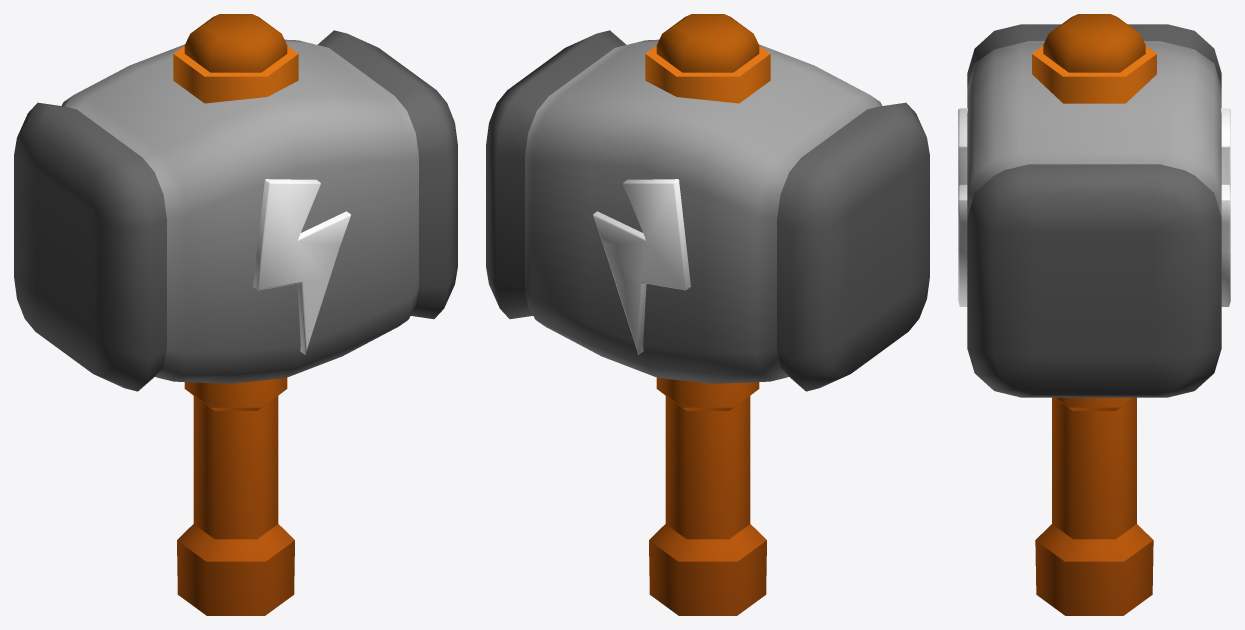
File: Collectable_Hammer_01.fbx
The picture shows the model from 3 angles, left to right: view 1: azimuth 30°, elevation 25°; view 2: azimuth 150°, elevation 25°; view 3: azimuth 270°, elevation 25°; orthographic projection.
Visible parts, largest first — view 1: Collectable_Hammer_01; view 2: Collectable_Hammer_01; view 3: Collectable_Hammer_01.
Part boxes in pixels (x1,y1,x2,y2): Collectable_Hammer_01: [14, 14, 457, 615]; Collectable_Hammer_01: [486, 14, 929, 615]; Collectable_Hammer_01: [958, 14, 1230, 615].
Size of the model in its own units: 54.76 by 87.26 by 37.62.
